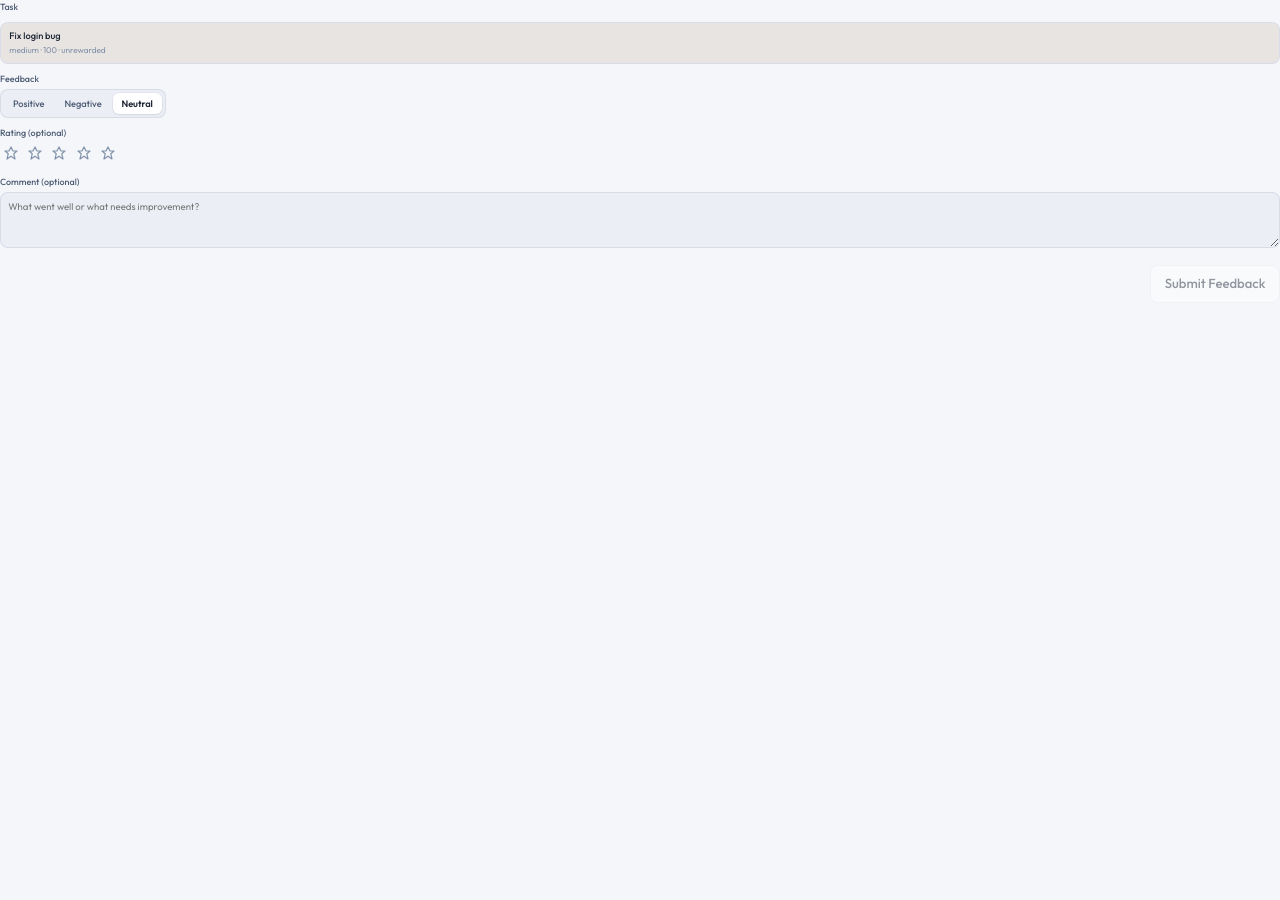
Scenario: FeedbackPanel › opens selected task markdown in a detail modal on double click
The width and height of the screenshot is (1280, 900).
Double-click the button with test id "task-picker-item-task-1" at (35, 36), box [1, 23, 1279, 63]
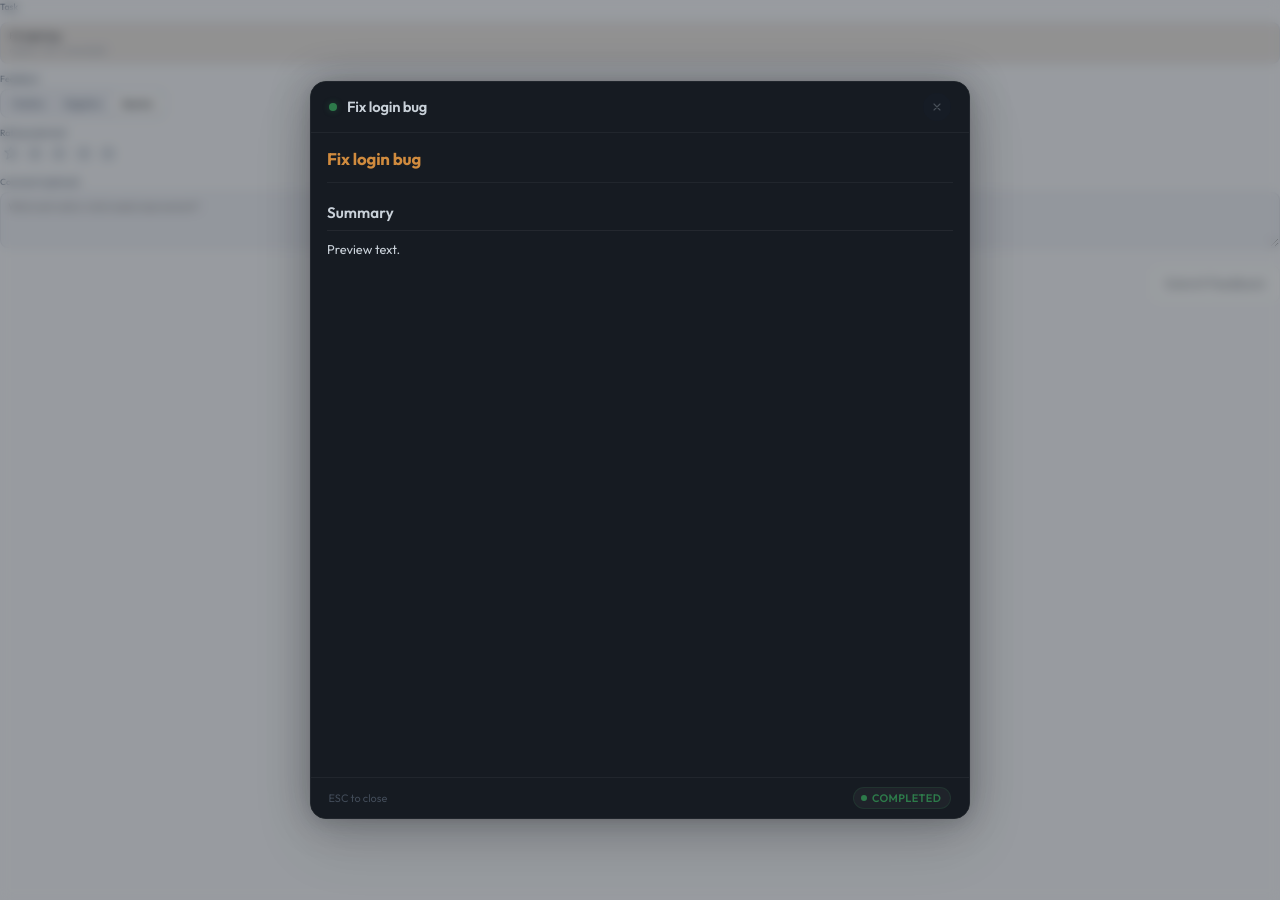
Now the dialog "Fix login bug" is shown, box [310, 81, 970, 819]
Now the dialog "Fix login bug" shows "Preview text.", box [327, 241, 400, 257]
